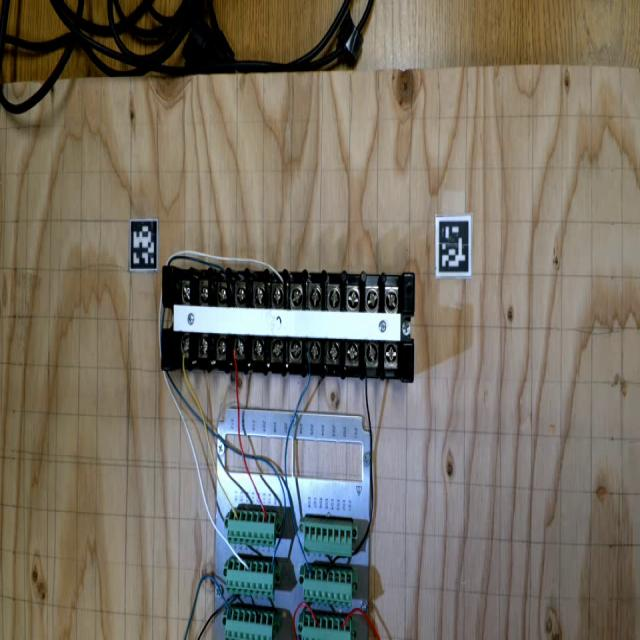Phillips_Block: (158, 261, 419, 381)
Terminal_2: (300, 564, 356, 608), (225, 558, 276, 598), (227, 508, 277, 547), (225, 607, 274, 640), (303, 614, 351, 639)
